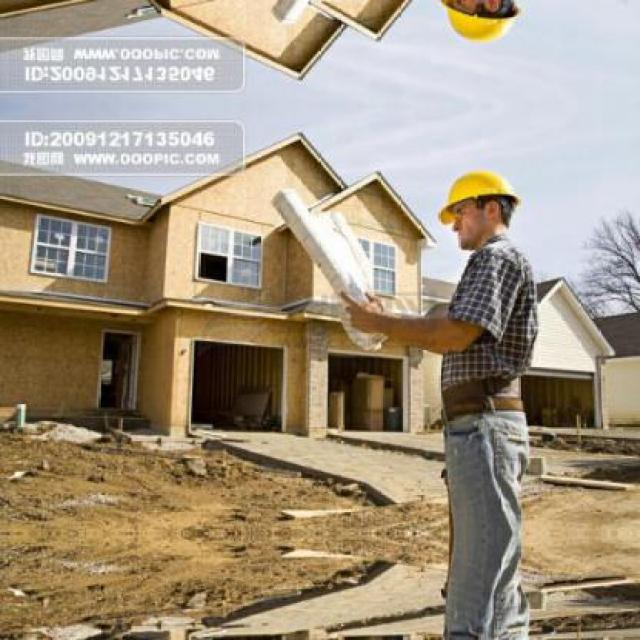helmet: (438, 160, 522, 249), (437, 0, 523, 54)
